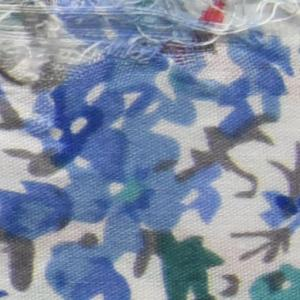Damage: (1, 1, 300, 104)
